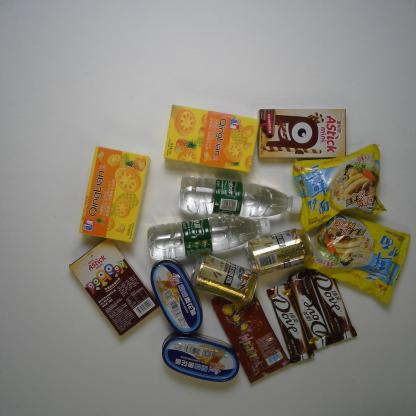Alcohol: (187, 250, 261, 308), (242, 226, 316, 280)
Candy: (210, 288, 293, 386)
Canned Food: (146, 256, 207, 338), (158, 329, 242, 385)
Chocolate: (265, 278, 317, 366), (306, 266, 361, 346), (286, 269, 336, 353)
Dessert: (65, 235, 162, 340), (76, 142, 154, 246), (160, 101, 261, 175), (254, 106, 352, 162)
Drink: (143, 212, 273, 263), (175, 173, 306, 221)
Instant Noodles: (305, 208, 412, 308), (290, 142, 391, 234)
